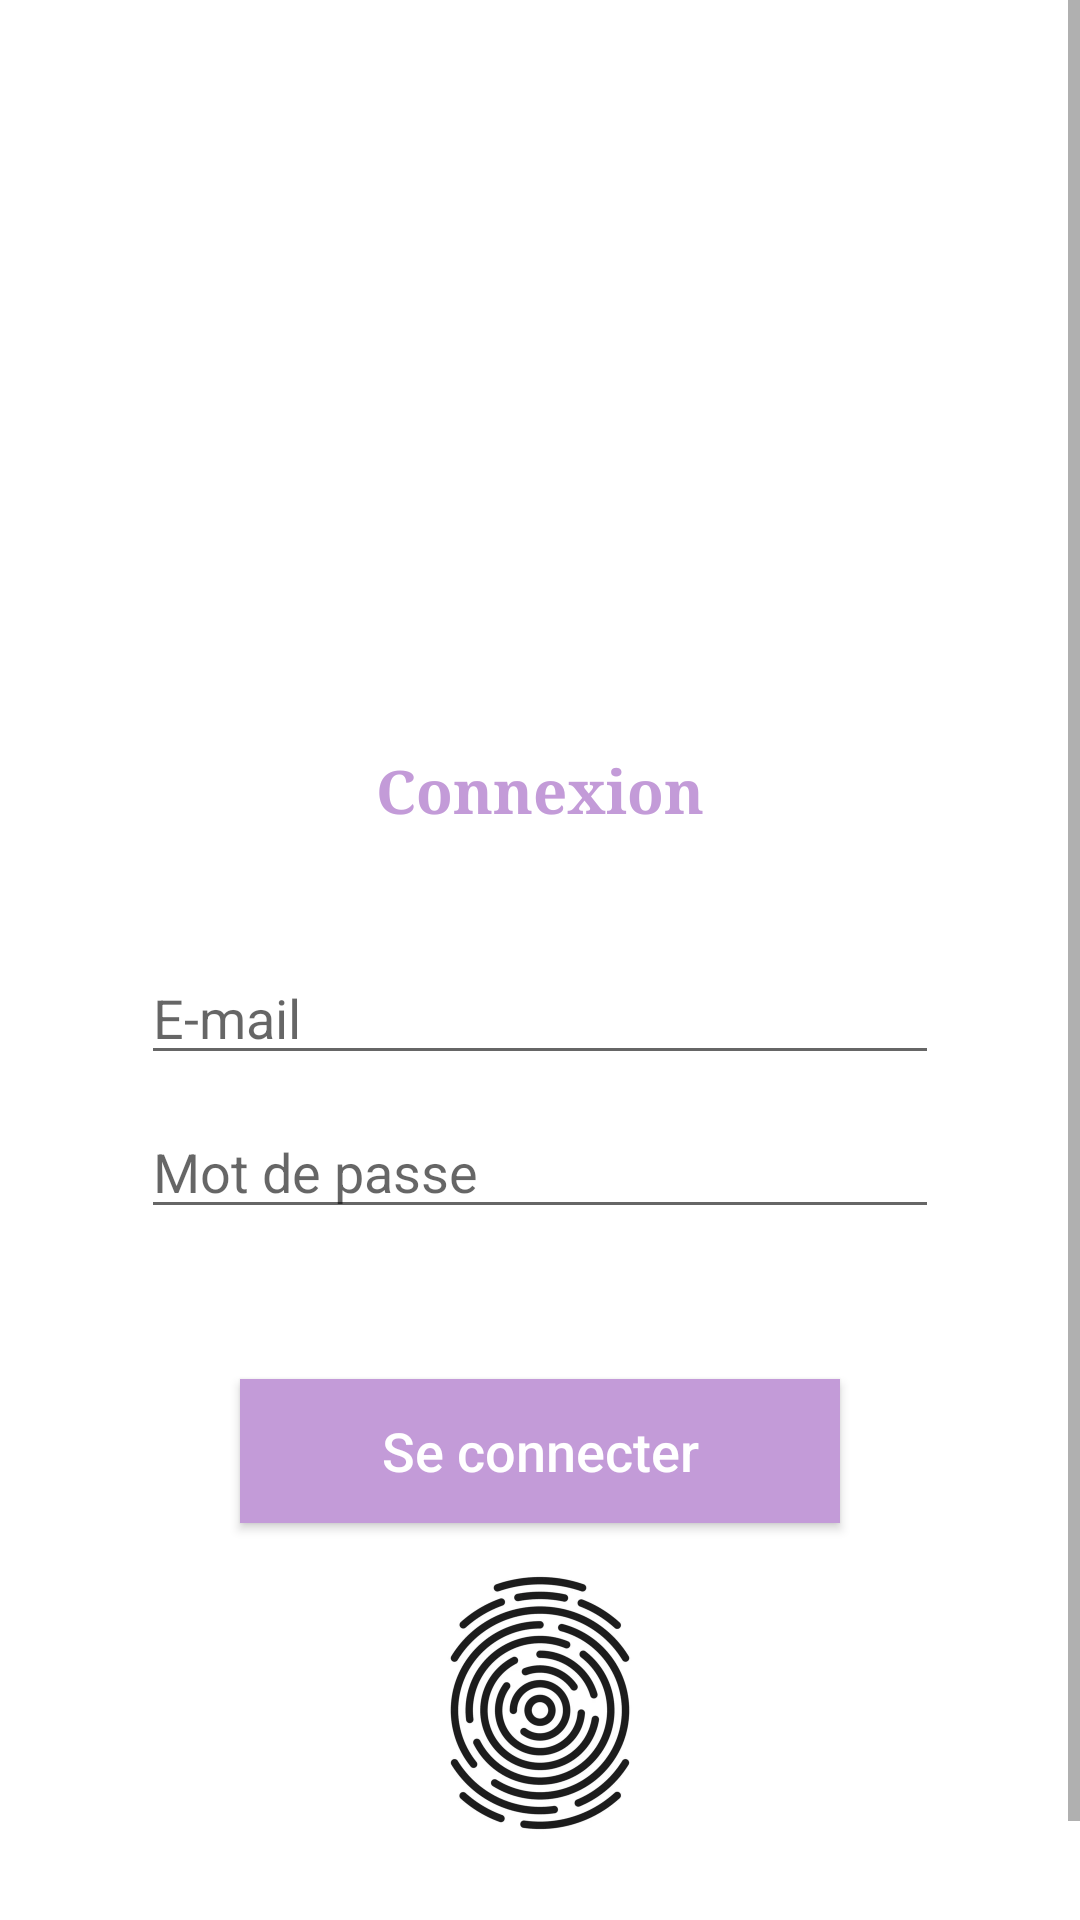

Named icons in this screenshot (1080 × 1920) and their centers, (x,y):
empreinte: (540,1703)
